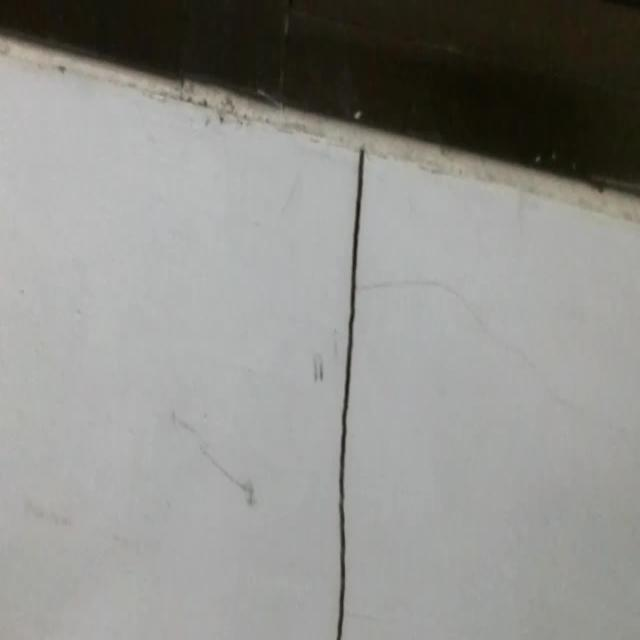Crack: (308, 122, 390, 640), (362, 241, 574, 401)
